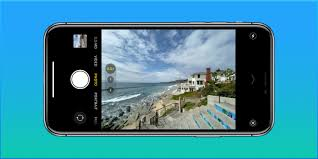camera: (66, 66, 92, 91)
